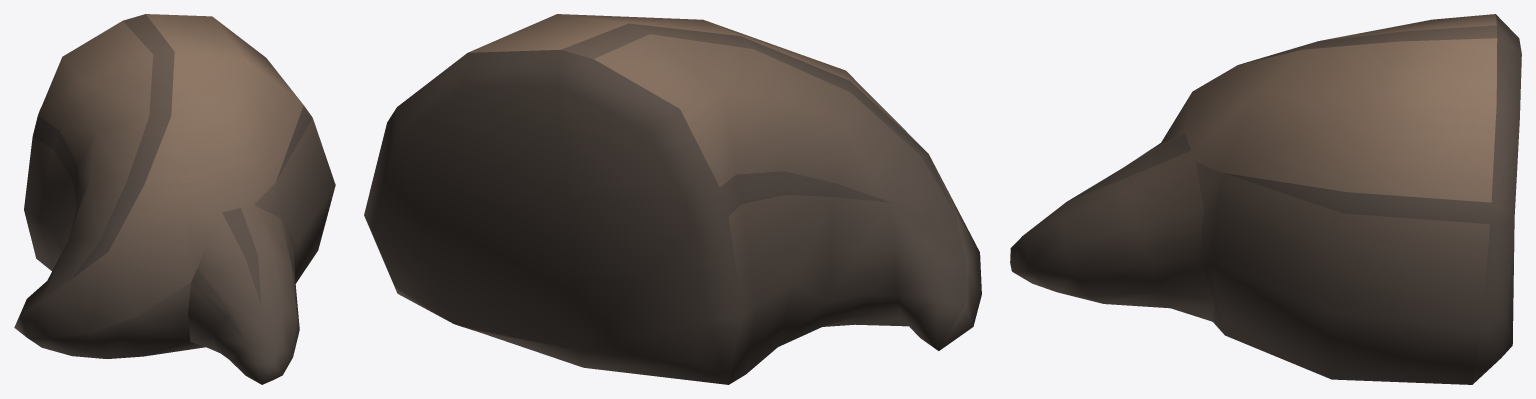
File: elf_tree_root_5.fbx
3 views of the same model, side by side, from view 1: azimuth 30°, elevation 25°; view 2: azimuth 150°, elevation 25°; view 3: azimuth 270°, elevation 25° (orthographic). The views are drawn at different scales.
Visible parts, largest first — view 1: elf_tree_root_5; view 2: elf_tree_root_5; view 3: elf_tree_root_5.
Part boxes in pixels (bbox=[...]): elf_tree_root_5: bbox=[14, 14, 335, 384]; elf_tree_root_5: bbox=[364, 14, 981, 384]; elf_tree_root_5: bbox=[1010, 14, 1521, 384].
Size of the model in its own units: 272 by 175 by 269.
